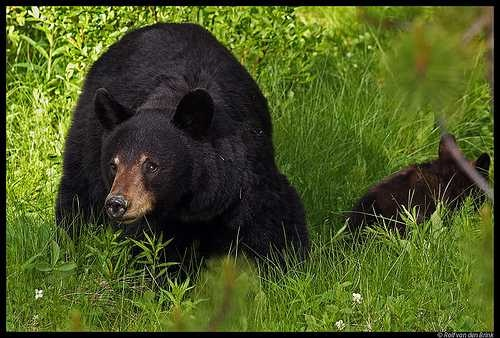bear: (87, 92, 215, 220)
